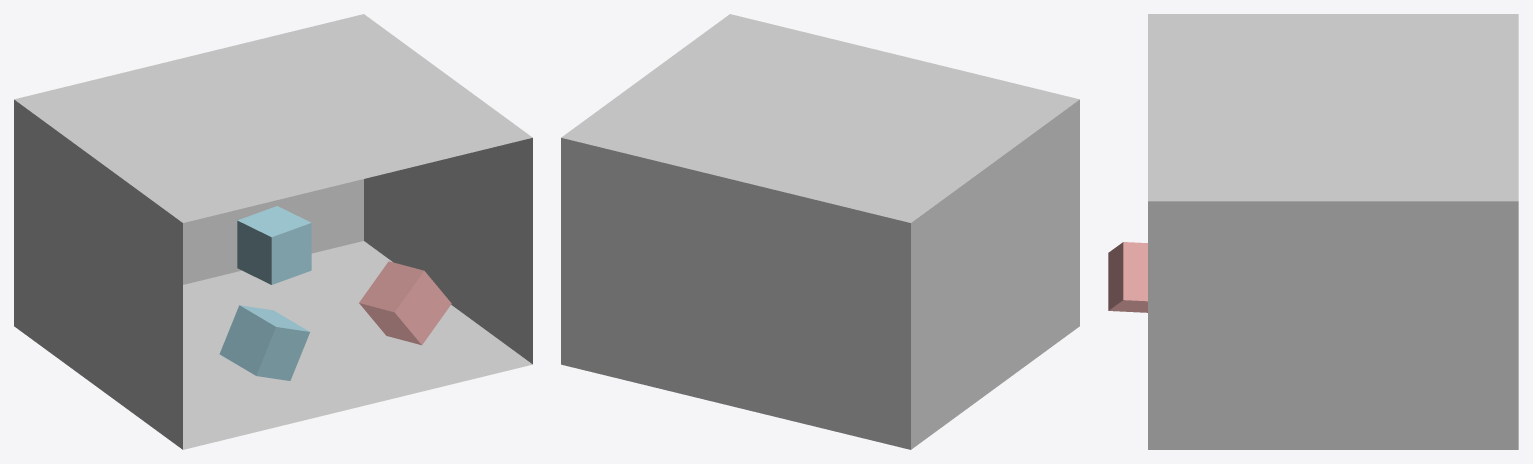
The model's file is portalView.glb.
3 renders of one model, left to right at view 1: azimuth 30°, elevation 25°; view 2: azimuth 150°, elevation 25°; view 3: azimuth 270°, elevation 25°, orthographic. The views are drawn at different scales.
Visible parts, largest first — view 1: Cube, Cube.005, Cube.001, Cube.003; view 2: Cube; view 3: Cube, Cube.005.
Part boxes in pixels (<box>): Cube: <box>14,14,532,449</box>; Cube.005: <box>359,261,451,345</box>; Cube.001: <box>237,206,311,284</box>; Cube.003: <box>219,305,309,380</box>; Cube: <box>561,14,1079,449</box>; Cube: <box>1148,14,1518,449</box>; Cube.005: <box>1108,242,1147,312</box>.
Bounding box in the file's own units: 4.95 × 3.07 × 4.58.
